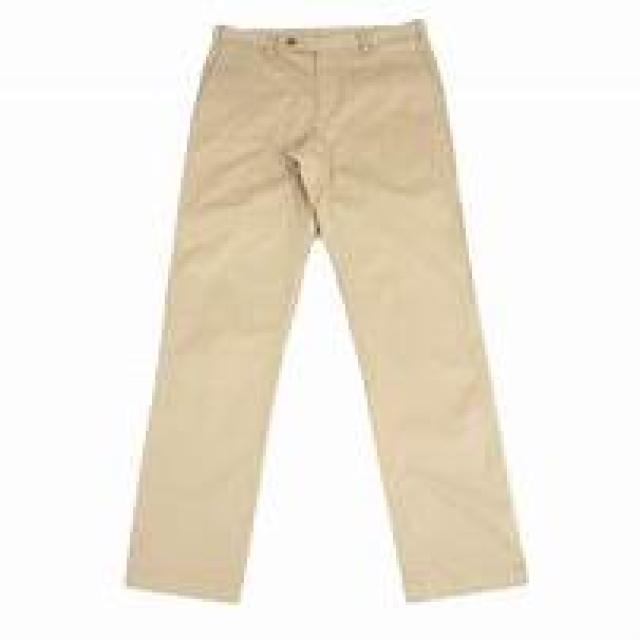long-pants: (123, 21, 532, 604)
